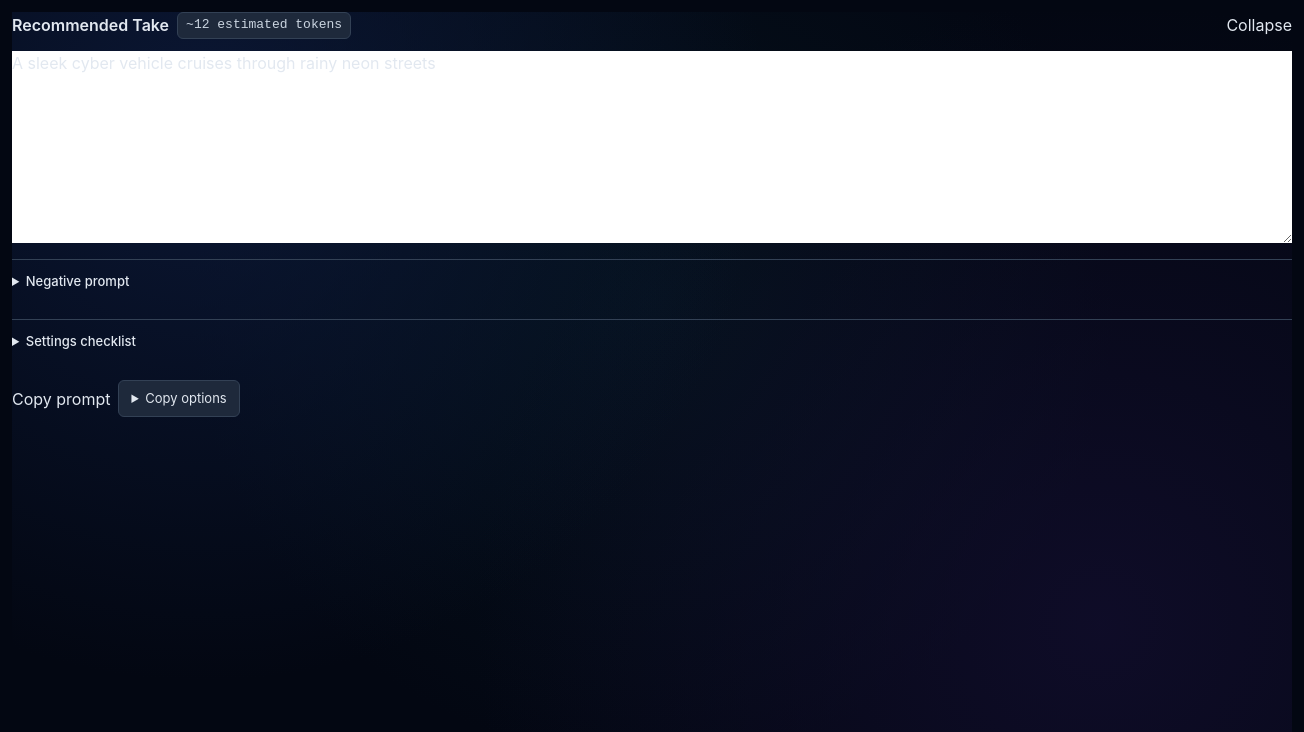
it: VideoVariantCard › collapses and expands on button click
The width and height of the screenshot is (1304, 732).
Click the button "Collapse" at [1259, 25], box left=1226, top=13, right=1292, bottom=37
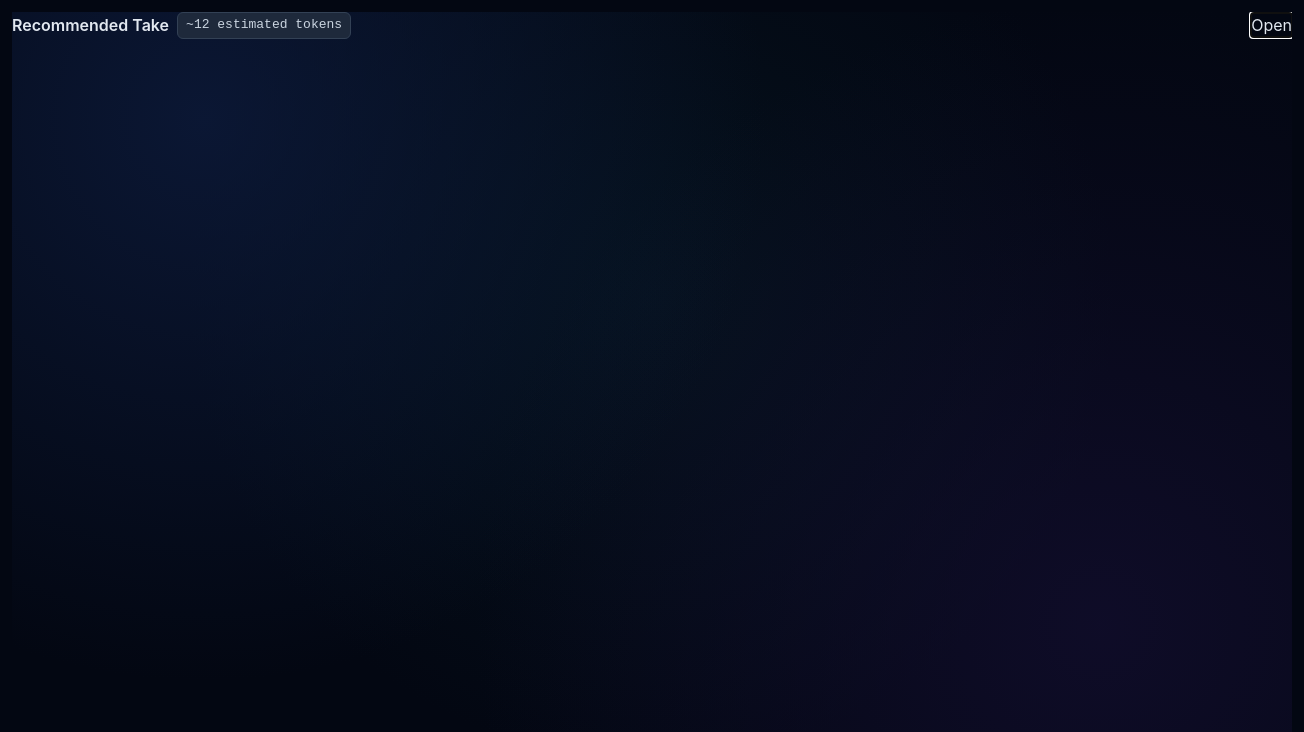
Expected: the field showing "cyber vehicle cruises" is not shown
Now the button "Open" is shown, box left=1251, top=13, right=1292, bottom=37
